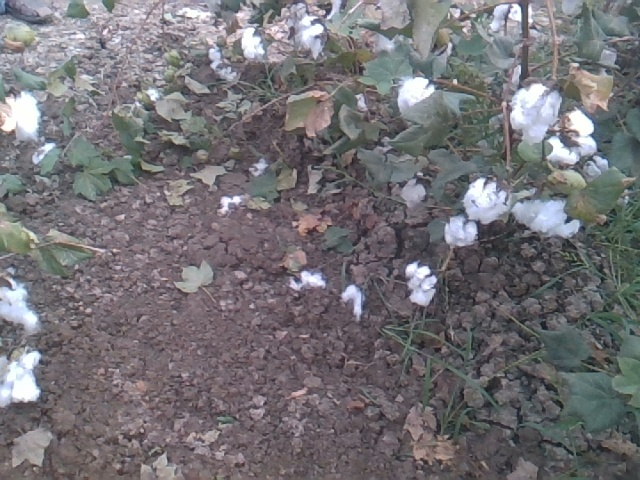cotton: (509, 84, 563, 145), (512, 198, 581, 243), (545, 108, 597, 165), (1, 266, 42, 336), (1, 346, 42, 408), (462, 177, 512, 225), (1, 91, 41, 144), (397, 77, 435, 126), (404, 259, 438, 308), (296, 12, 327, 61), (444, 215, 480, 250), (240, 27, 265, 62)
